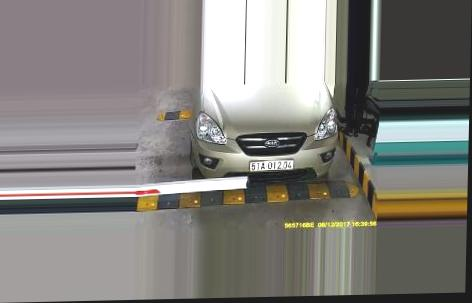License_Plate: (249, 157, 295, 172)
